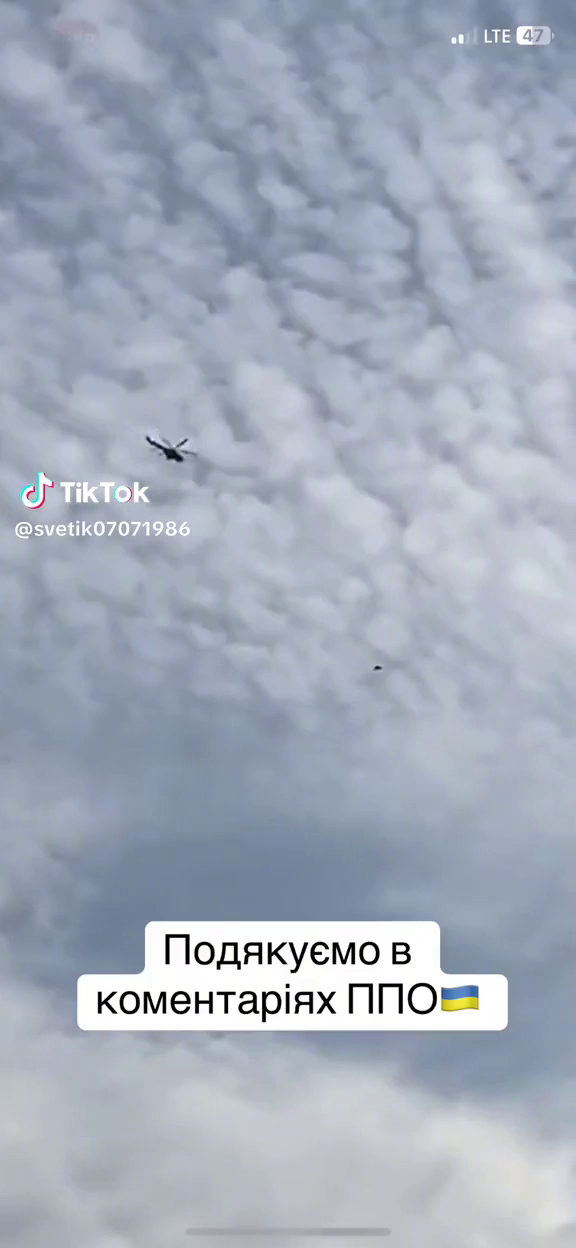not_drone: (143, 426, 201, 470)
